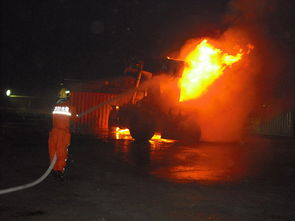fire: (178, 29, 255, 100)
